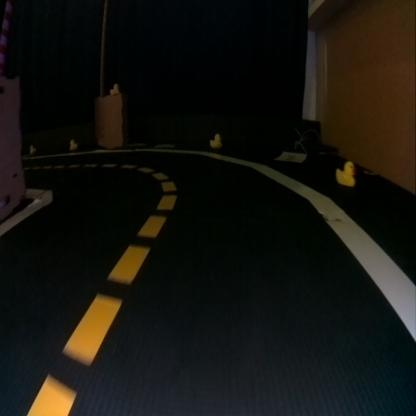Duckie: (335, 160, 355, 186), (209, 132, 221, 146), (110, 83, 118, 94), (69, 139, 76, 149), (29, 144, 35, 152)
